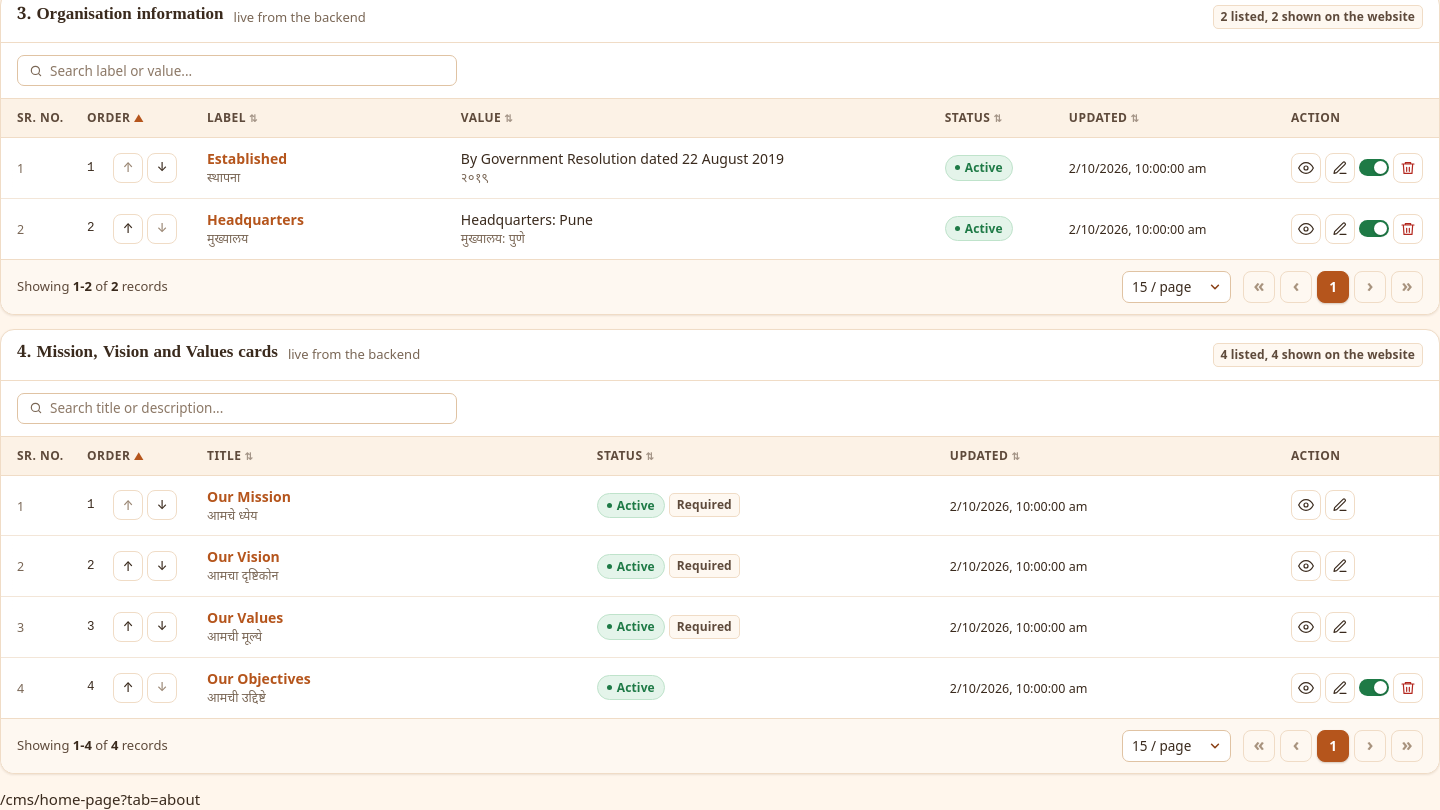
Scenario: About AMRUT tab › deletes an additional card after confirmation, by id — and Cancel deletes nothing
The width and height of the screenshot is (1440, 810).
(page scrolled)
Click the button named "Delete Our Objectives" at [1408, 688], box [1393,673,1423,703]
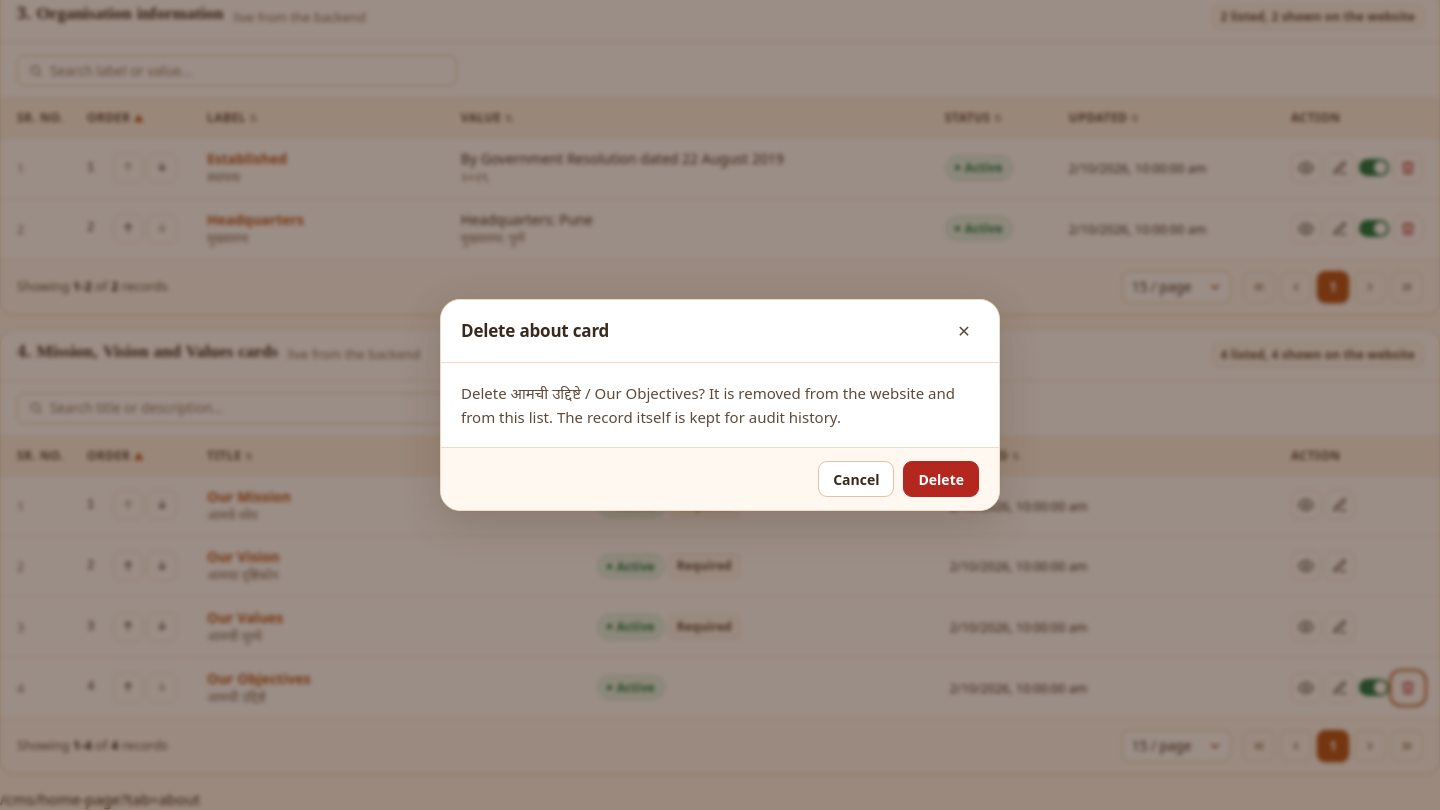
expect the dialog shows "Delete आमची उद्दिष्टे / Our Objectives?": met, box [461,383,955,427]
Click the button "Cancel" at [856, 479], box [818,461,894,497]
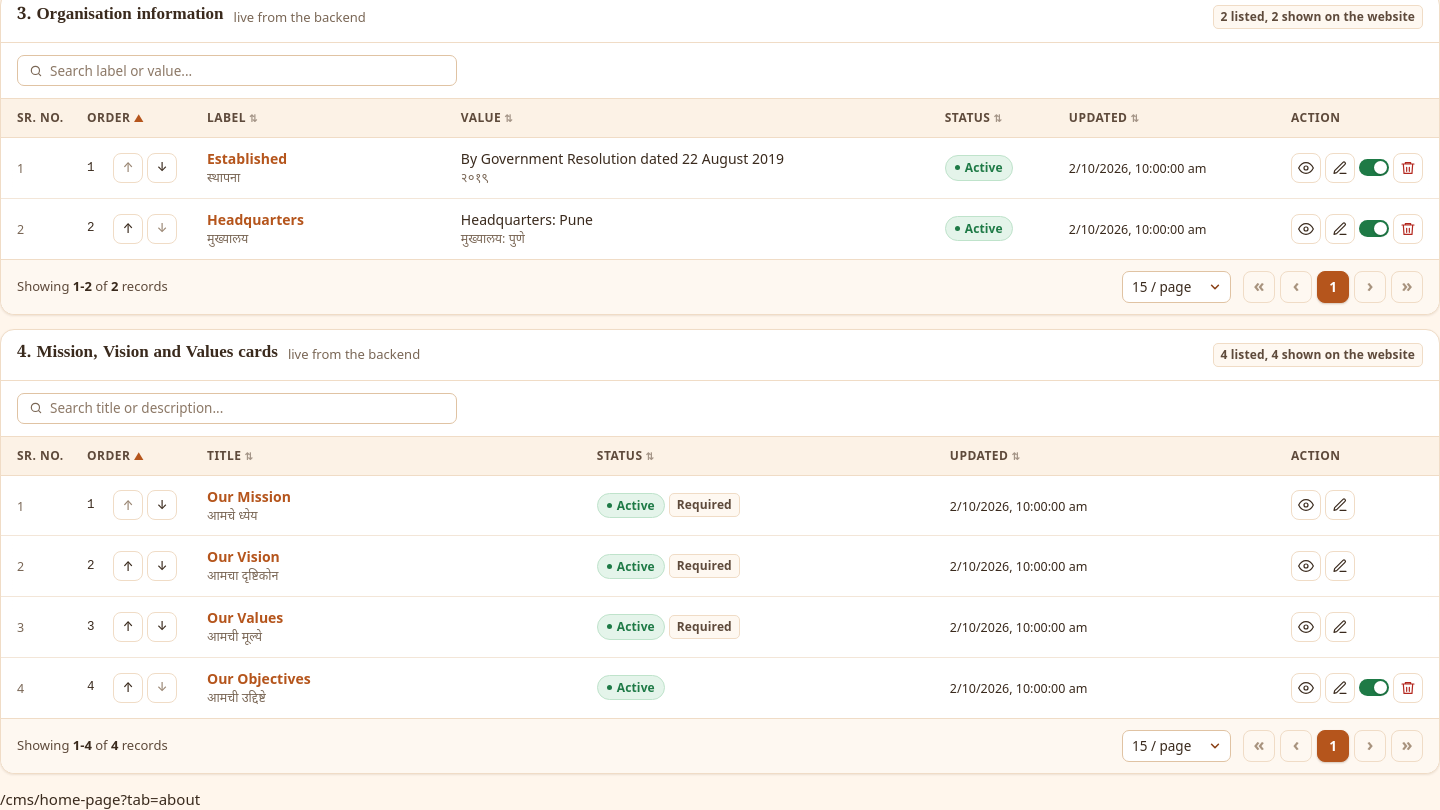
Click the button named "Delete Our Objectives" at [1408, 688], box [1393,673,1423,703]
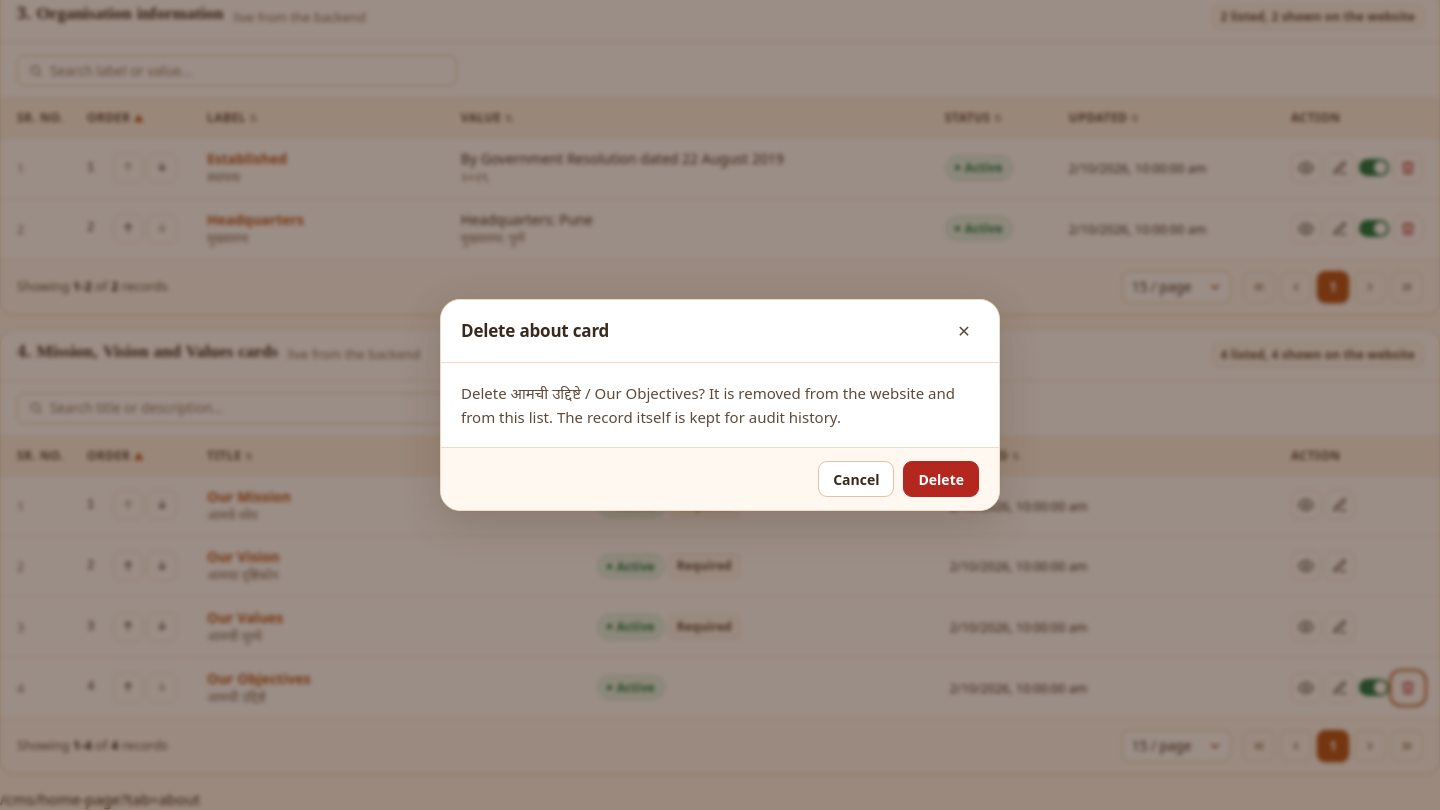
Click the button "Delete" at [941, 479], box [904,461,979,497]
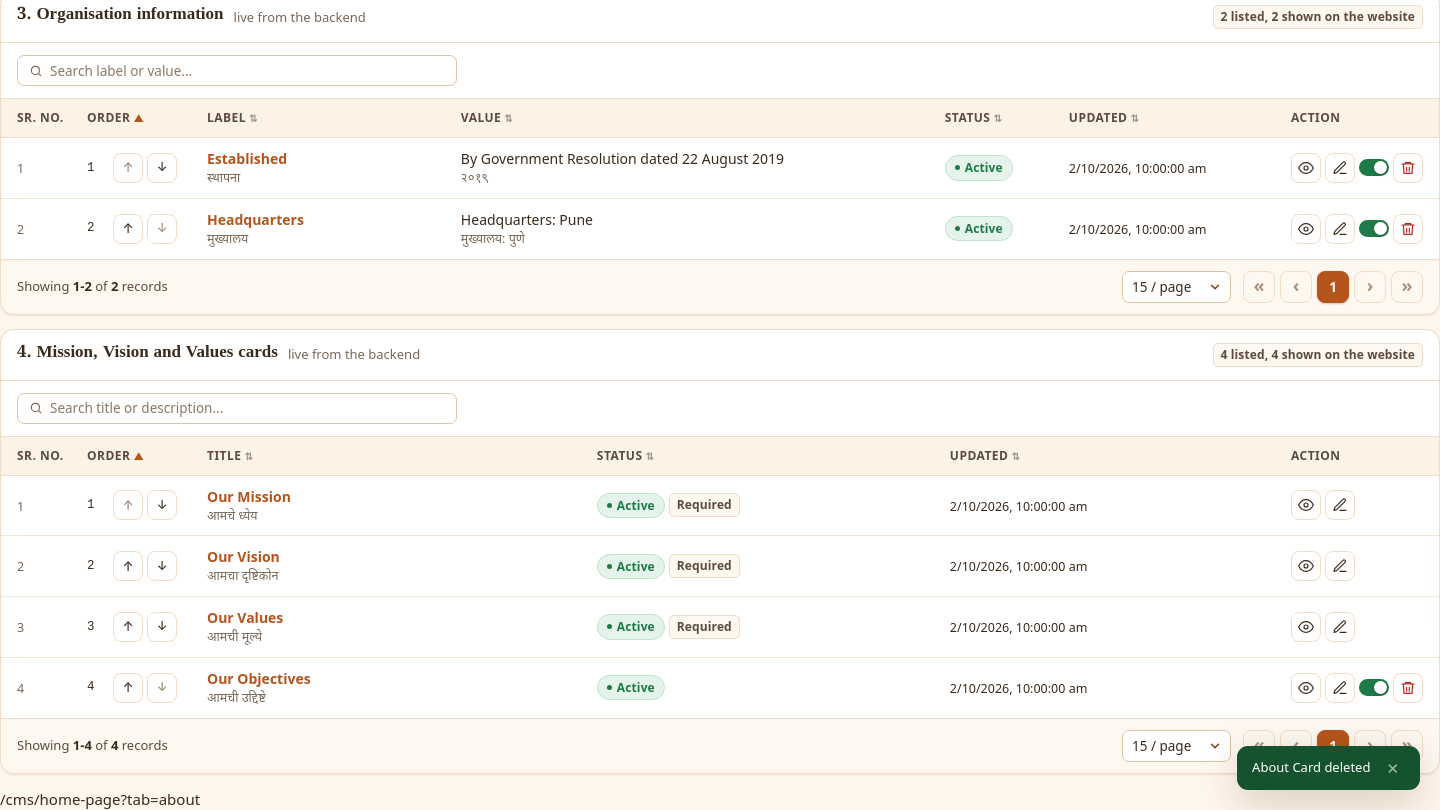
expect the text with test id "location" reads "/cms/home-page?tab=about": met, box [0,789,200,809]
expect the element with id "toast-root" shows "About Card deleted": met, box [1252,758,1370,776]
